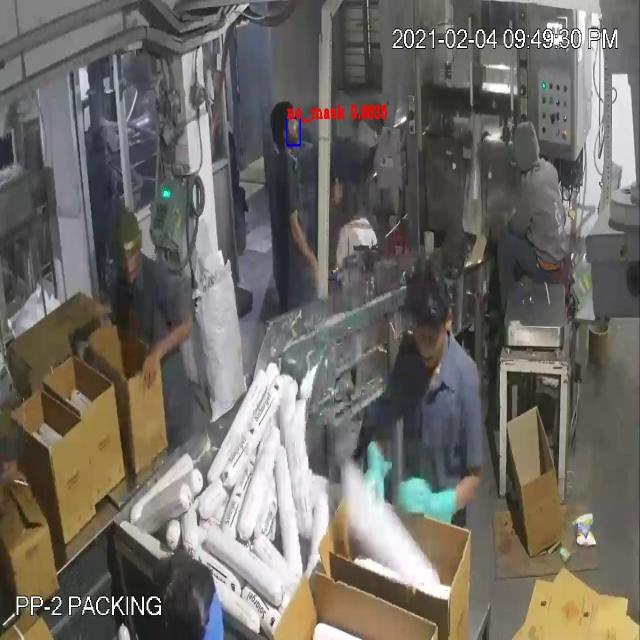gloves: (395, 463, 468, 533), (358, 425, 396, 523)
no-gloves: (136, 306, 202, 394), (282, 204, 328, 286)
